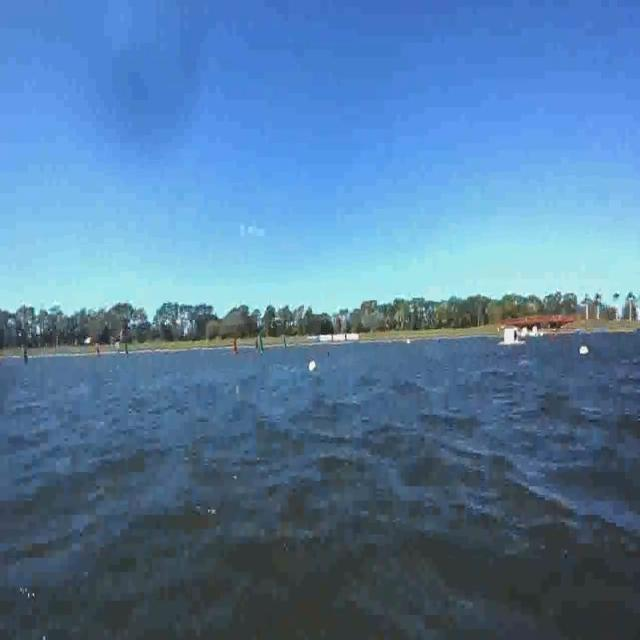green-column-buoy: (260, 331, 267, 356)
red-column-buoy: (233, 333, 240, 356)
yellow-buoy: (308, 358, 314, 371)
